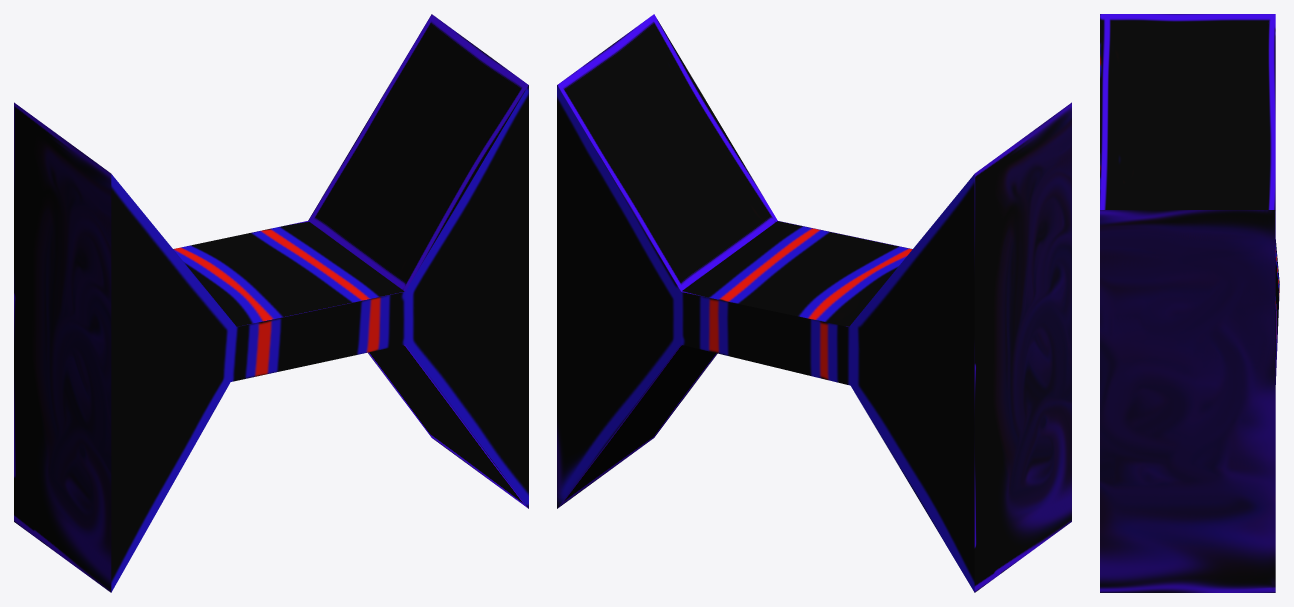
The model's file is bowTie.fbx.
3 views of the same model, side by side, from view 1: azimuth 30°, elevation 25°; view 2: azimuth 150°, elevation 25°; view 3: azimuth 270°, elevation 25° (orthographic). The views are drawn at different scales.
Parts seen in each view (by area): view 1: Cube; view 2: Cube; view 3: Cube.
Part boxes in pixels (<box>): Cube: <box>14,14,528,592</box>; Cube: <box>557,14,1071,592</box>; Cube: <box>1100,14,1279,592</box>.
Bounding box in the file's own units: 228 × 228 × 94.08.
1 material, 1 textured.
